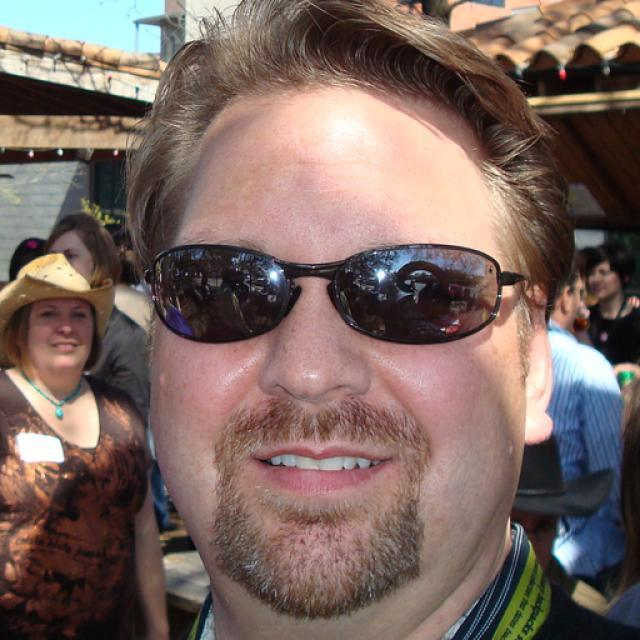content: (146, 58, 528, 618), (562, 278, 588, 322)
happy: (30, 304, 96, 374)
